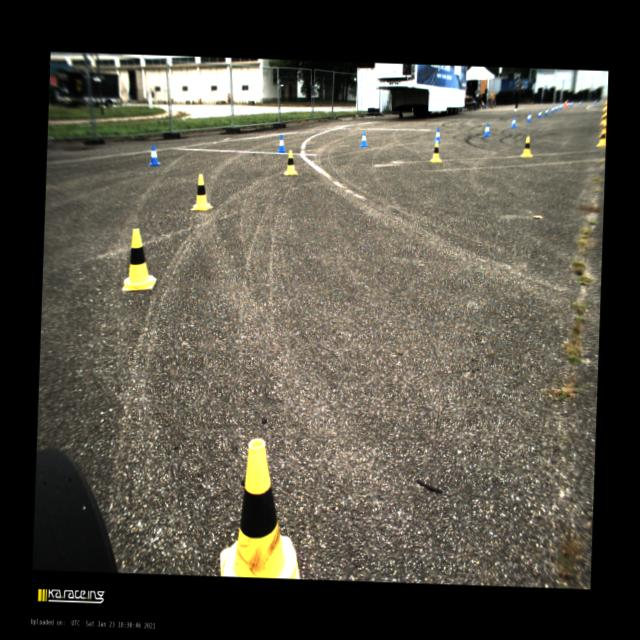blue_cone: (148, 144, 160, 166), (276, 134, 286, 152), (360, 130, 368, 147), (433, 128, 441, 142), (483, 122, 490, 136), (510, 116, 516, 128), (525, 111, 531, 122), (537, 109, 542, 118), (558, 102, 563, 110), (578, 99, 584, 105), (544, 107, 548, 115), (550, 104, 554, 112), (554, 103, 558, 111), (566, 99, 570, 107), (569, 100, 574, 106), (594, 98, 598, 104)
large_orange_cone: (563, 98, 568, 109)
yellow_cone: (220, 437, 304, 579), (121, 228, 158, 292), (190, 173, 214, 211), (282, 150, 298, 176), (429, 140, 442, 162), (520, 135, 532, 157), (596, 128, 606, 146), (598, 120, 606, 137), (598, 111, 606, 125), (600, 105, 607, 119), (602, 100, 607, 110)
